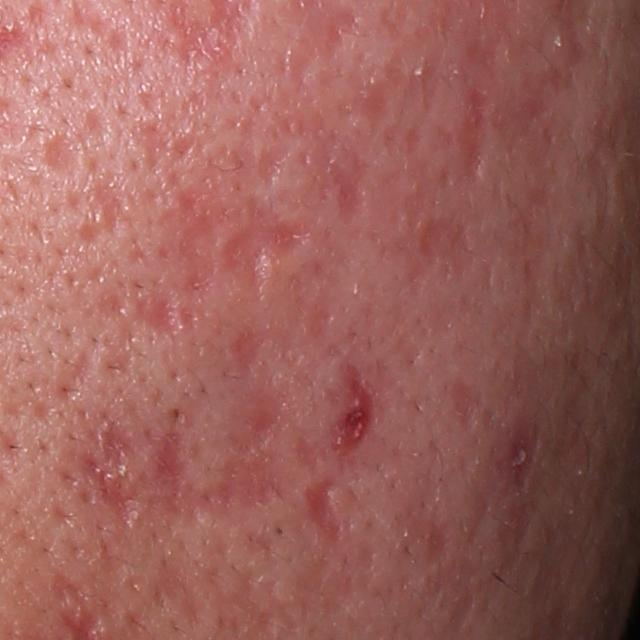atrophic_scar: (86, 381, 299, 531), (162, 190, 313, 307), (319, 359, 382, 477), (294, 540, 358, 621), (96, 291, 141, 386), (458, 80, 496, 186), (129, 284, 203, 337), (258, 111, 306, 190), (415, 209, 477, 269), (156, 559, 207, 629), (76, 179, 130, 243), (127, 119, 198, 167), (326, 149, 369, 228), (39, 129, 88, 186), (300, 478, 344, 540), (450, 372, 488, 436), (225, 322, 269, 374), (418, 509, 452, 571), (52, 572, 99, 615)
